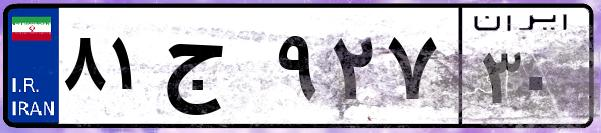0: (525, 38, 570, 115)
1: (110, 28, 158, 98)
2: (330, 28, 385, 110)
3: (475, 38, 525, 113)
7: (385, 28, 445, 110)
8: (57, 26, 110, 100)
9: (270, 28, 330, 110)
ج: (158, 20, 270, 120)
